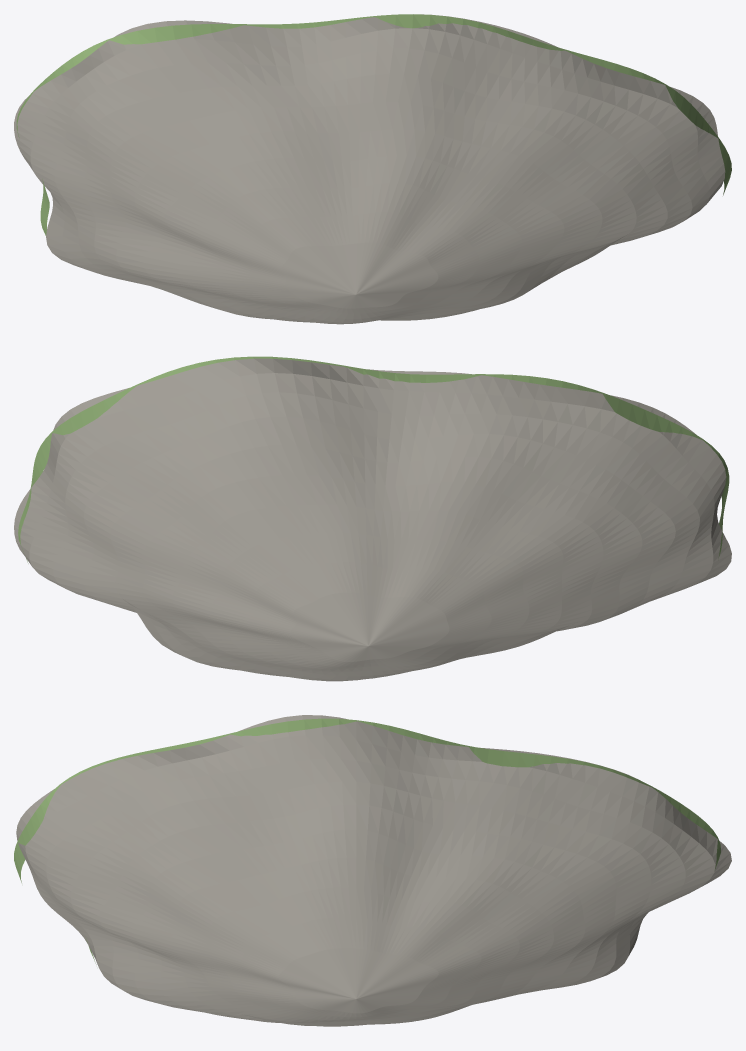
The model's file is bream_floating_island.glb.
3 renders of one model, top to bottom at view 1: azimuth 30°, elevation 25°; view 2: azimuth 150°, elevation 25°; view 3: azimuth 270°, elevation 25°, orthographic. The views are drawn at different scales.
Parts seen in each view (by area): view 1: RockUnderside, GrassRim; view 2: RockUnderside, GrassRim; view 3: RockUnderside, GrassRim.
Part boxes in pixels (x1,y1,x2,y2): RockUnderside: (14,14,725,324); GrassRim: (16,14,731,235); RockUnderside: (14,358,731,681); GrassRim: (18,356,729,563); RockUnderside: (16,715,731,1026); GrassRim: (14,718,720,964).
Size of the model in its own units: 21.19 by 4.44 by 21.04.
